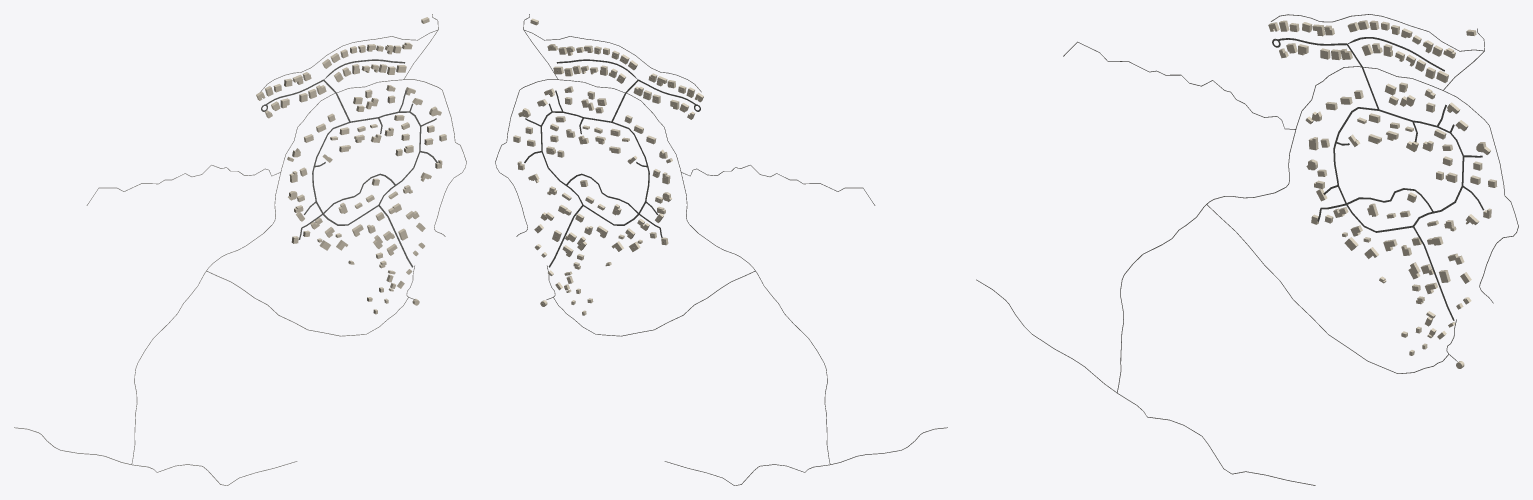
Rendered from historic-palestine-11_35_3532_3295.glb.
The picture shows the model from 3 angles, left to right: view 1: azimuth 30°, elevation 25°; view 2: azimuth 150°, elevation 25°; view 3: azimuth 330°, elevation 25°; orthographic projection. The views are drawn at different scales.
Parts seen in each view (by area): view 1: Road .003; view 2: Road .003; view 3: Road .003.
Part boxes in pixels (box(x1,y1,x2,y2)): Road .003: box(312, 111, 421, 225); Road .003: box(540, 111, 649, 225); Road .003: box(1333, 107, 1464, 232).
Size of the model in its own units: 1024 by 912 by 8.7.
